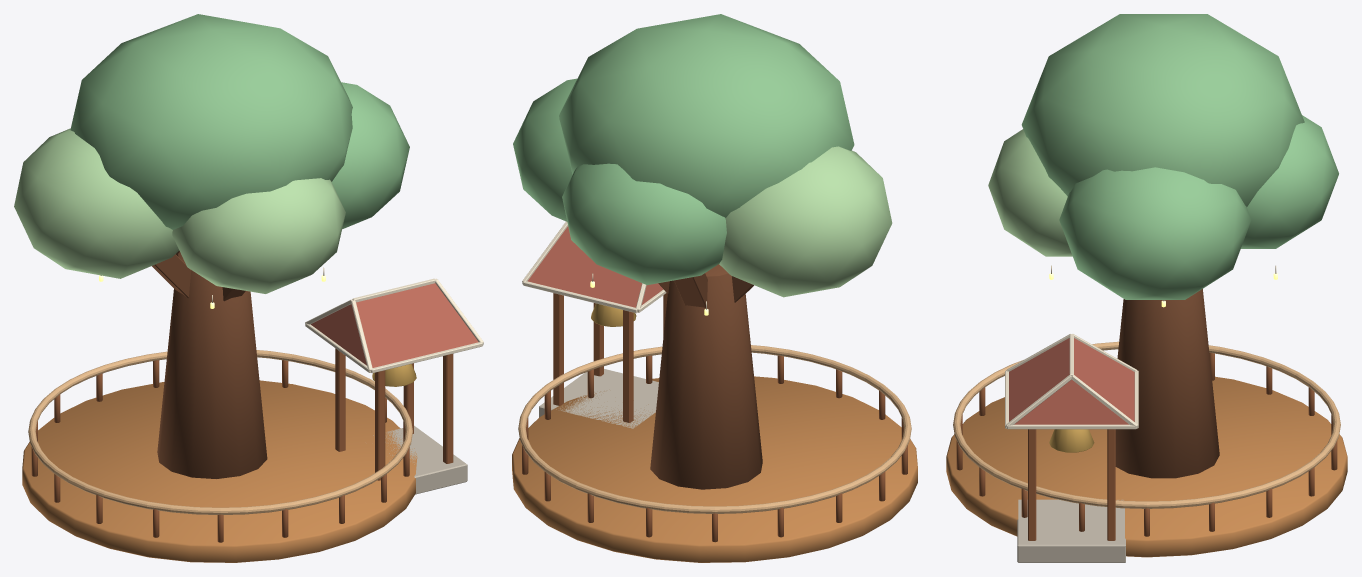
The picture shows the model from 3 angles, left to right: view 1: azimuth 30°, elevation 25°; view 2: azimuth 150°, elevation 25°; view 3: azimuth 270°, elevation 25°; orthographic projection. The views are drawn at different scales.
Visible parts, largest first — view 1: sage_leaf, Viewing_Deck, cream_green, dark_bark, Belfry_Roof, toasted_wood, Deck_Rail, Belfry_Base, ivory_trim, Town_Bronze_Bell; view 2: sage_leaf, Viewing_Deck, dark_bark, cream_green, Deck_Rail, toasted_wood, Belfry_Roof, Belfry_Base, ivory_trim, Town_Bronze_Bell; view 3: sage_leaf, Viewing_Deck, dark_bark, Belfry_Roof, cream_green, Belfry_Base, Deck_Rail, toasted_wood, ivory_trim, Town_Bronze_Bell.
Part boxes in pixels (left/top/right/bottom): sage_leaf: left=70, top=14, right=409, bottom=229; Viewing_Deck: left=22, top=380, right=417, bottom=562; cream_green: left=14, top=128, right=345, bottom=293; dark_bark: left=152, top=250, right=267, bottom=478; Belfry_Roof: left=311, top=283, right=478, bottom=367; toasted_wood: left=31, top=348, right=453, bottom=542; Deck_Rail: left=28, top=350, right=412, bottom=514; Belfry_Base: left=373, top=425, right=467, bottom=494; ivory_trim: left=305, top=278, right=483, bottom=373; Town_Bronze_Bell: left=372, top=364, right=416, bottom=386; sage_leaf: left=513, top=14, right=854, bottom=285; Viewing_Deck: left=512, top=376, right=917, bottom=562; dark_bark: left=650, top=264, right=762, bottom=489; cream_green: left=719, top=146, right=892, bottom=297; Deck_Rail: left=518, top=345, right=911, bottom=513; toasted_wood: left=522, top=293, right=907, bottom=542; Belfry_Roof: left=527, top=226, right=663, bottom=307; Belfry_Base: left=539, top=369, right=658, bottom=428; ivory_trim: left=522, top=221, right=666, bottom=313; Town_Bronze_Bell: left=591, top=303, right=636, bottom=326; sage_leaf: left=1021, top=14, right=1338, bottom=299; Viewing_Deck: left=946, top=376, right=1347, bottom=557; dark_bark: left=1115, top=289, right=1219, bottom=478; Belfry_Roof: left=1009, top=338, right=1134, bottom=424; cream_green: left=988, top=129, right=1072, bottom=256; Belfry_Base: left=1017, top=499, right=1125, bottom=562; Deck_Rail: left=953, top=341, right=1340, bottom=508; toasted_wood: left=956, top=352, right=1337, bottom=540; ivory_trim: left=1005, top=333, right=1138, bottom=429; Town_Bronze_Bell: left=1049, top=429, right=1094, bottom=452.
Size of the model in its own units: 10.28 by 11.8 by 9.6.
